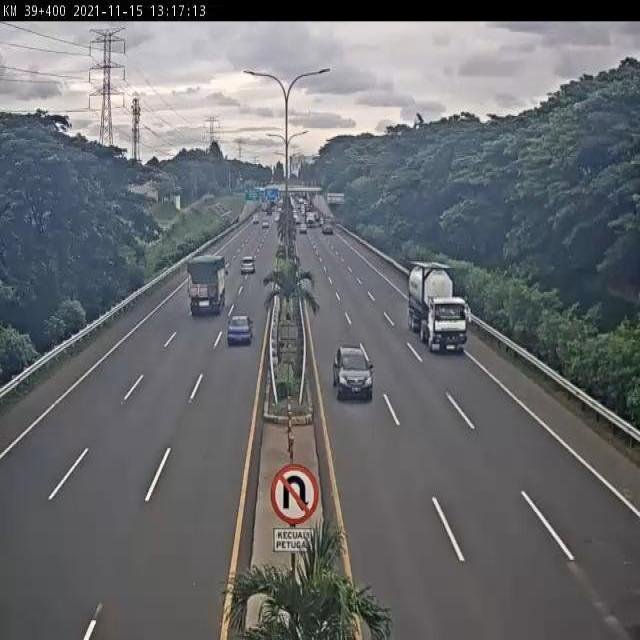ARABA: (333, 342, 376, 402), (225, 311, 255, 345), (239, 252, 257, 277)
TIR: (406, 256, 470, 357), (186, 250, 229, 318)
